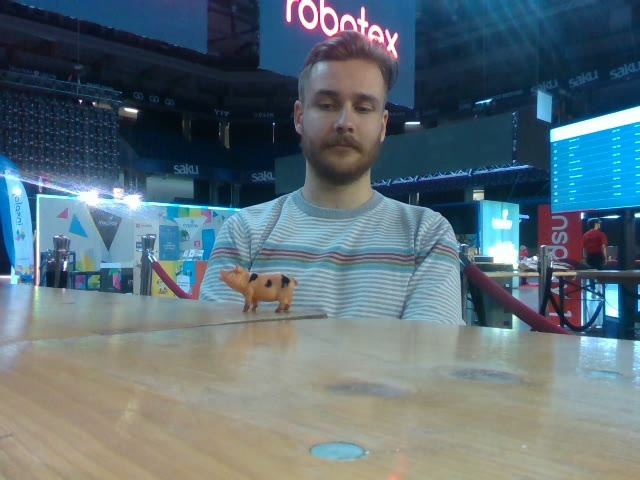toy: (216, 263, 299, 313)
